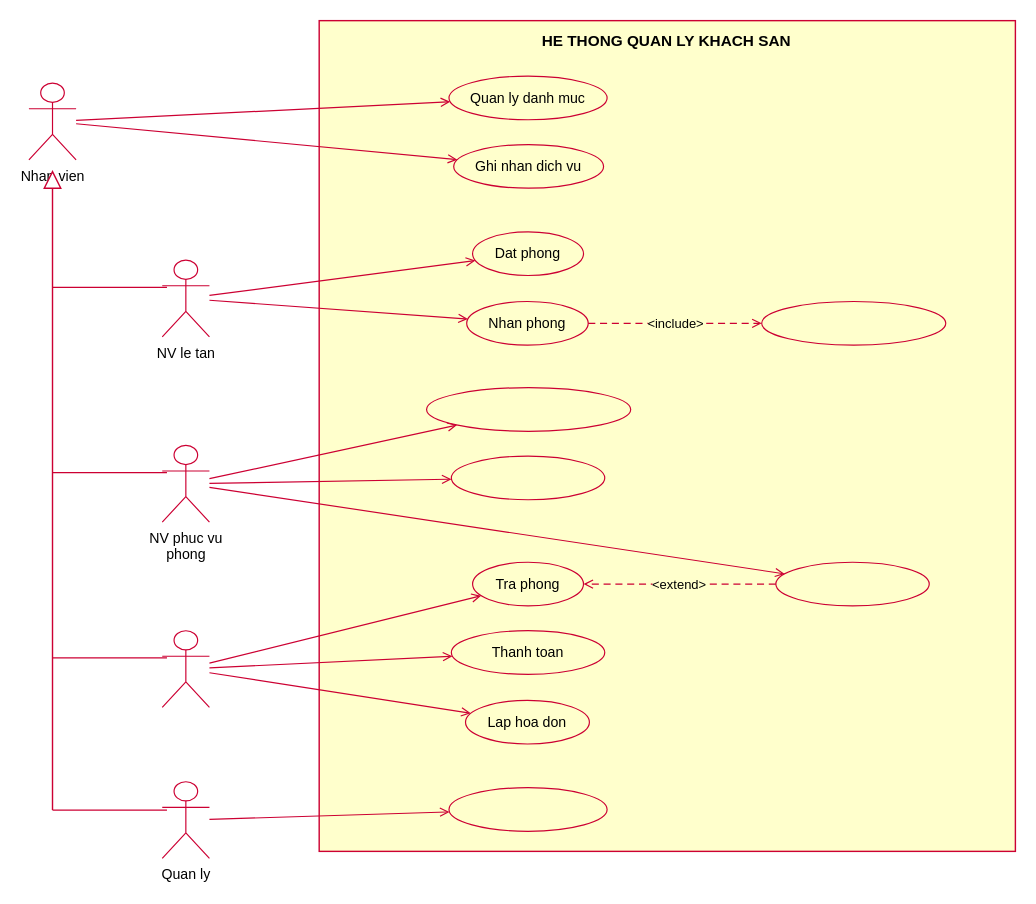
This 1036x904 diagram has some shape labels left out. Each missing label, with the centre of its shape:
Ghi nhan nguoi luu tru: the point at 853,322
Lap phieu den bu: the point at 852,583
Lap phieu lap dat: the point at 527,477
NV thanh toan: the point at 185,668
Quan ly phong - tien nghi: the point at 528,408
Tra cuu / thong ke: the point at 527,808
